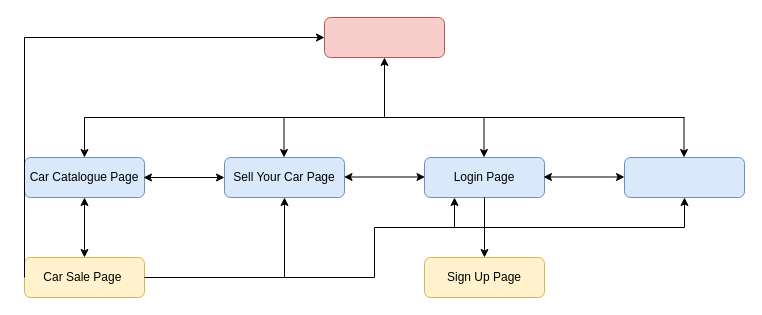
Some shapes in this 762 by 315 pixel diagram are drawn without their labels. Each missing label, with the box of its shape:
Contact Us Page: (624, 156, 744, 198)
HomePage: (324, 16, 444, 58)
